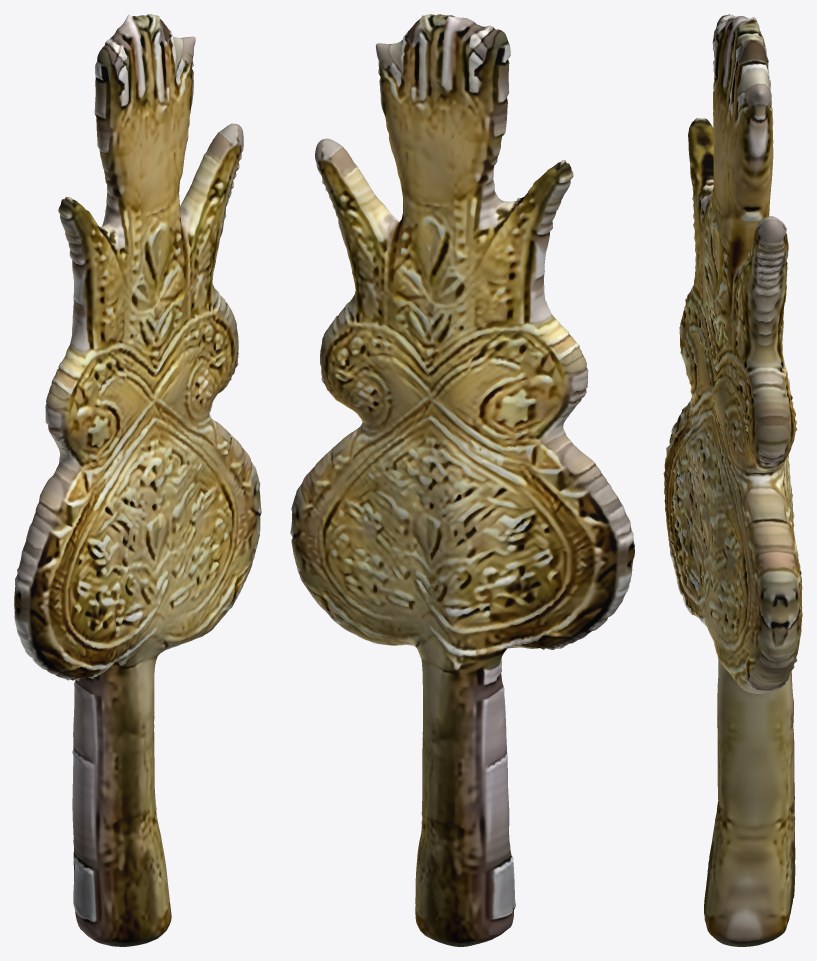
File: kfl-2298.glb
3 renders of one model, left to right at view 1: azimuth 30°, elevation 25°; view 2: azimuth 150°, elevation 25°; view 3: azimuth 270°, elevation 25°, orthographic.
Parts seen in each view (by area): view 1: kfl-2298; view 2: kfl-2298; view 3: kfl-2298.
Boxes of the visible parts, box(x1,y1,x2,y2) form: kfl-2298: box(14, 14, 261, 946); kfl-2298: box(290, 14, 634, 946); kfl-2298: box(663, 14, 802, 946).
Size of the model in its own units: 0.3288 by 0.9935 by 0.1358.
1 material, 1 textured.
